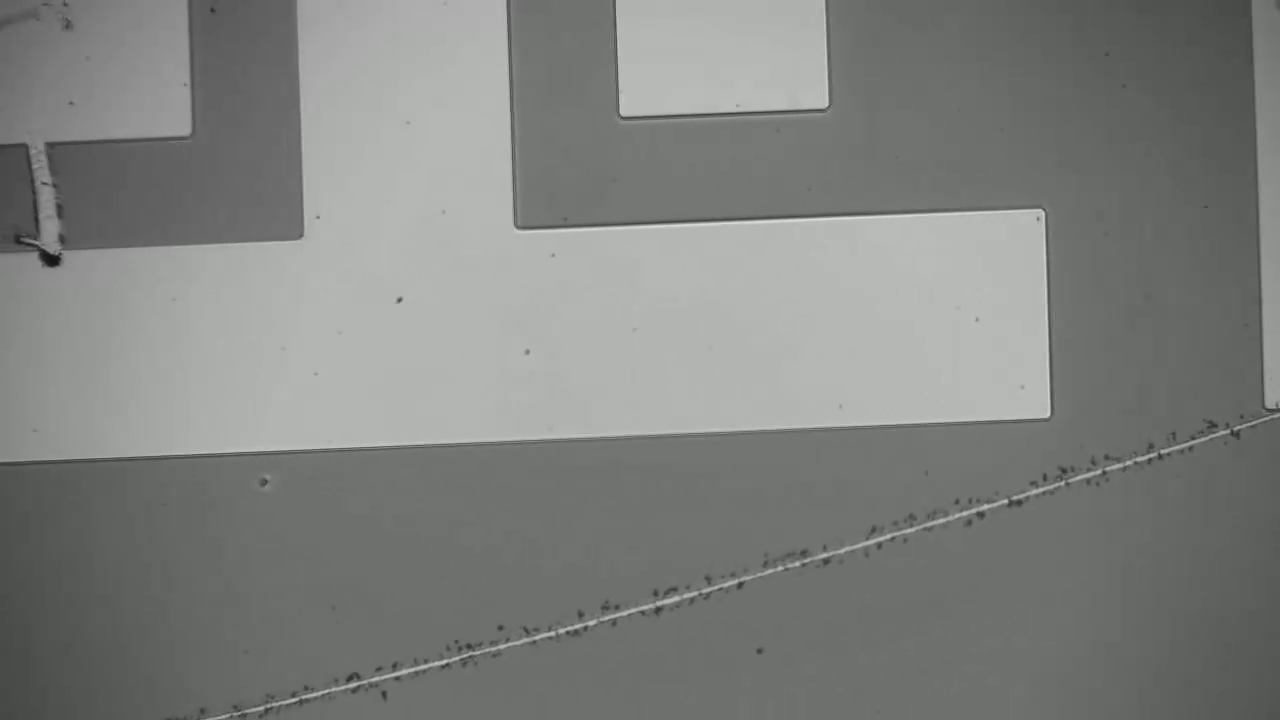scratch: (213, 412, 1280, 716)
short_cricuit: (2, 110, 96, 286)
